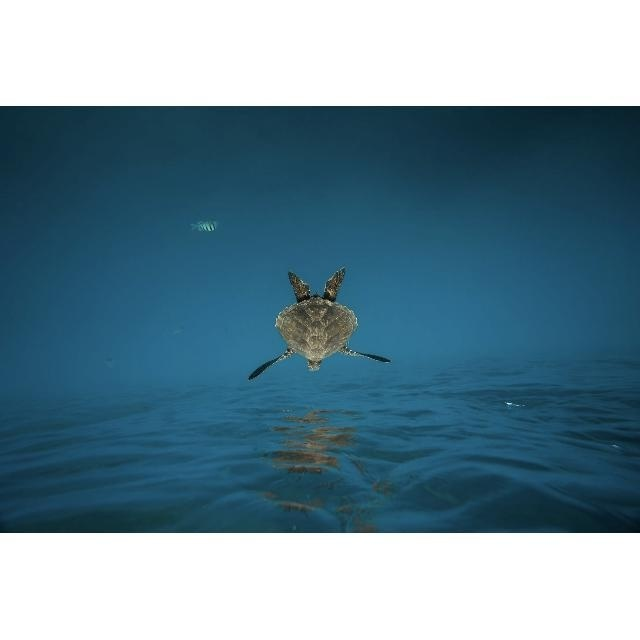turtle: (248, 264, 388, 381)
